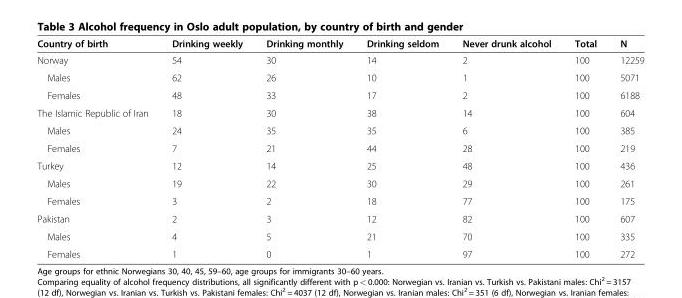table: (36, 37, 643, 259)
table column: (36, 37, 159, 259), (450, 37, 562, 259), (253, 37, 354, 259), (354, 37, 450, 259), (159, 37, 253, 259), (562, 37, 607, 259), (607, 37, 643, 259)
table column header: (36, 37, 643, 51)
table row: (36, 68, 643, 86), (36, 103, 643, 121), (36, 121, 643, 139), (36, 156, 643, 174), (36, 191, 643, 209), (36, 209, 643, 227), (36, 51, 643, 68), (36, 86, 643, 103), (36, 139, 643, 156), (36, 174, 643, 191), (36, 227, 643, 244), (36, 244, 643, 259), (36, 37, 643, 51)
